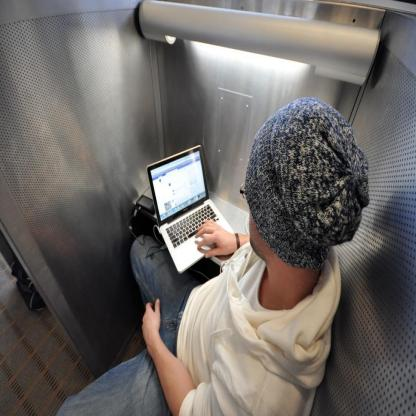board: (145, 140, 237, 285)
